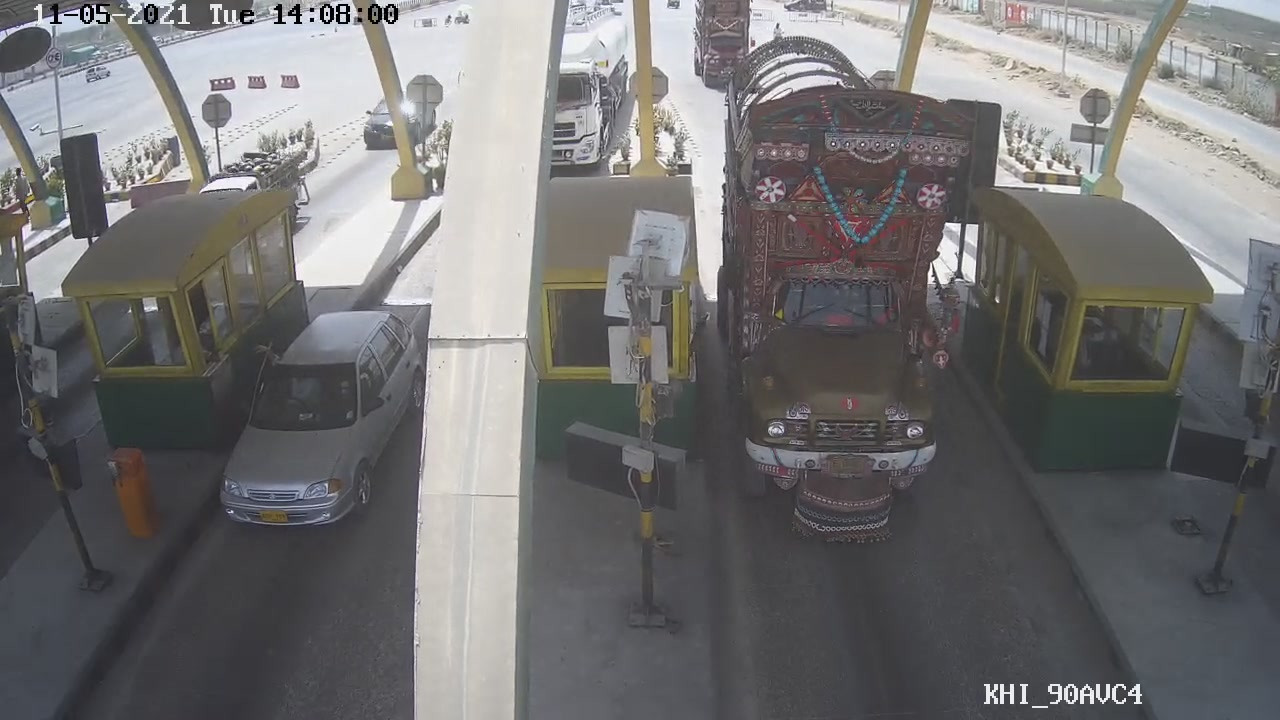F5: (720, 48, 980, 547)
